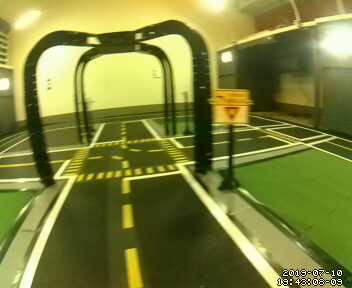Turn Yield: (213, 88, 250, 124)
